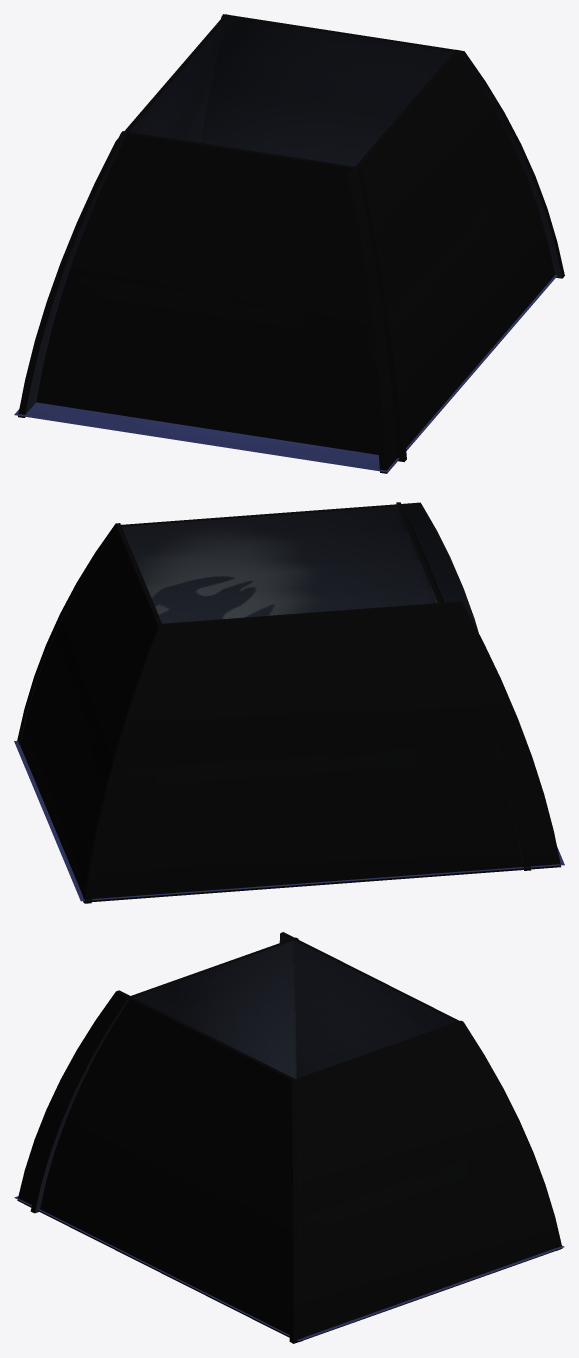
Rendered from ExhibitModel_001.glb.
The picture shows the model from 3 angles, top to bottom: view 1: azimuth 30°, elevation 25°; view 2: azimuth 150°, elevation 25°; view 3: azimuth 270°, elevation 25°; orthographic projection. The views are drawn at different scales.
Parts seen in each view (by area): view 1: WallsFloor; view 2: WallsFloor; view 3: WallsFloor.
Part boxes in pixels (bbox=[...]): WallsFloor: bbox=[14, 14, 564, 473]; WallsFloor: bbox=[14, 502, 564, 903]; WallsFloor: bbox=[14, 932, 564, 1343].
Size of the model in its own units: 4679 by 2000 by 4579.
1 material, 1 textured.
